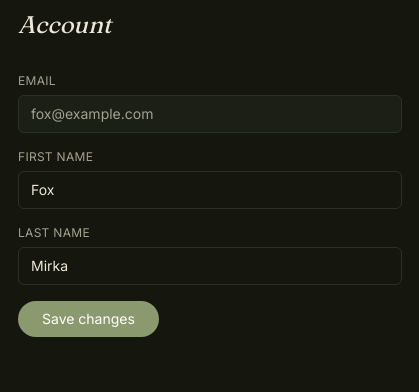
Test: AccountPage › blocks the save and shows an error when a name is blank
Clear the field showing "Fox" at {"x": 210, "y": 190}, box [18,171,402,209]
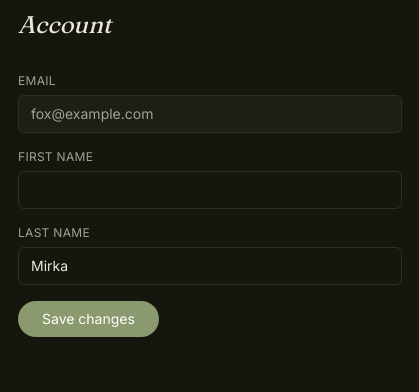
Click the button "Save changes".
click(88, 319)  # box [18,301,159,337]
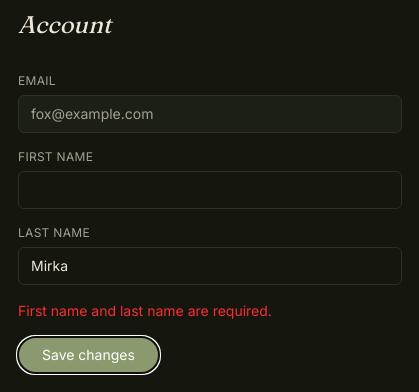
Check: the text "First name and last name are required." is shown, box [18,302,272,319]
